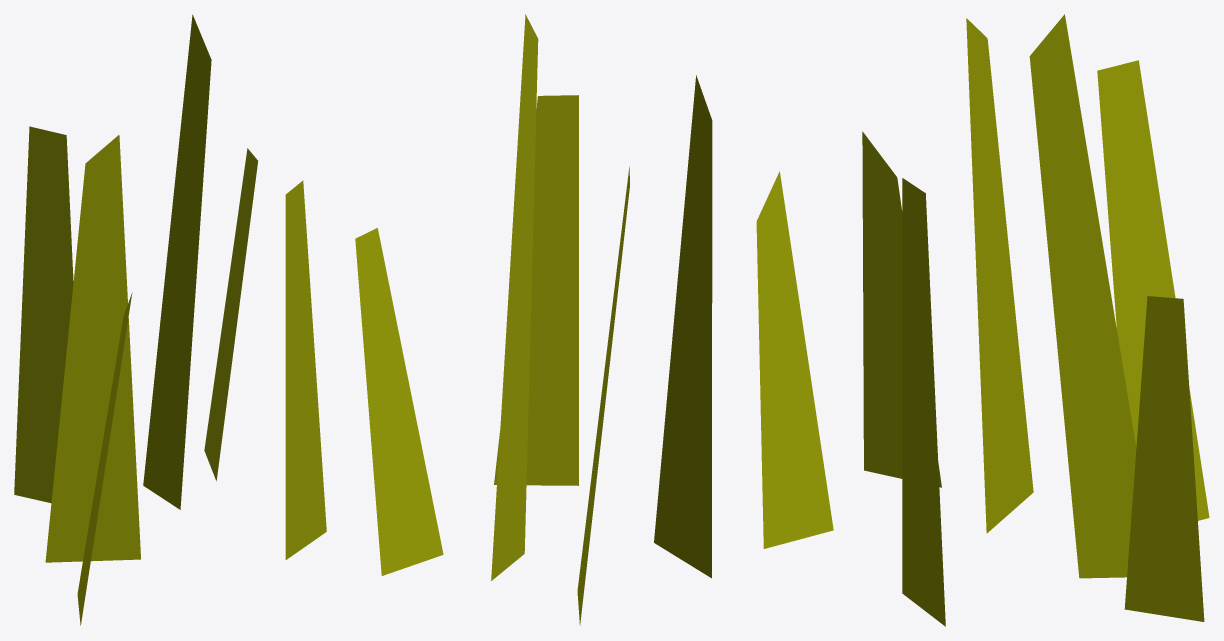
The model's file is Grass1Yellow.fbx.
3 views of the same model, side by side, from view 1: azimuth 30°, elevation 25°; view 2: azimuth 150°, elevation 25°; view 3: azimuth 270°, elevation 25° (orthographic). The views are drawn at different scales.
Parts seen in each view (by area): view 1: Plane; view 2: Plane; view 3: Plane.
Boxes of the visible parts, bbox=[...] form: Plane: bbox=[14, 14, 326, 625]; Plane: bbox=[355, 14, 833, 625]; Plane: bbox=[862, 14, 1209, 626].
Bounding box in the file's own units: 0.1851 × 0.2873 × 0.1593.
